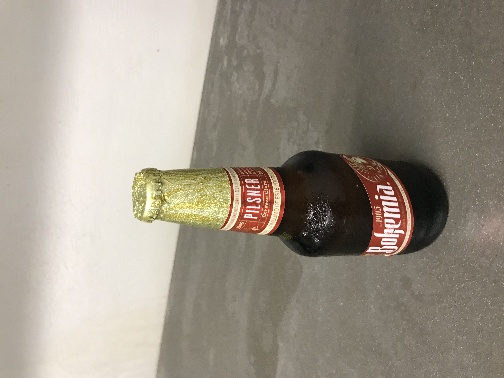BPB: (261, 130, 305, 188), (167, 125, 198, 166)
